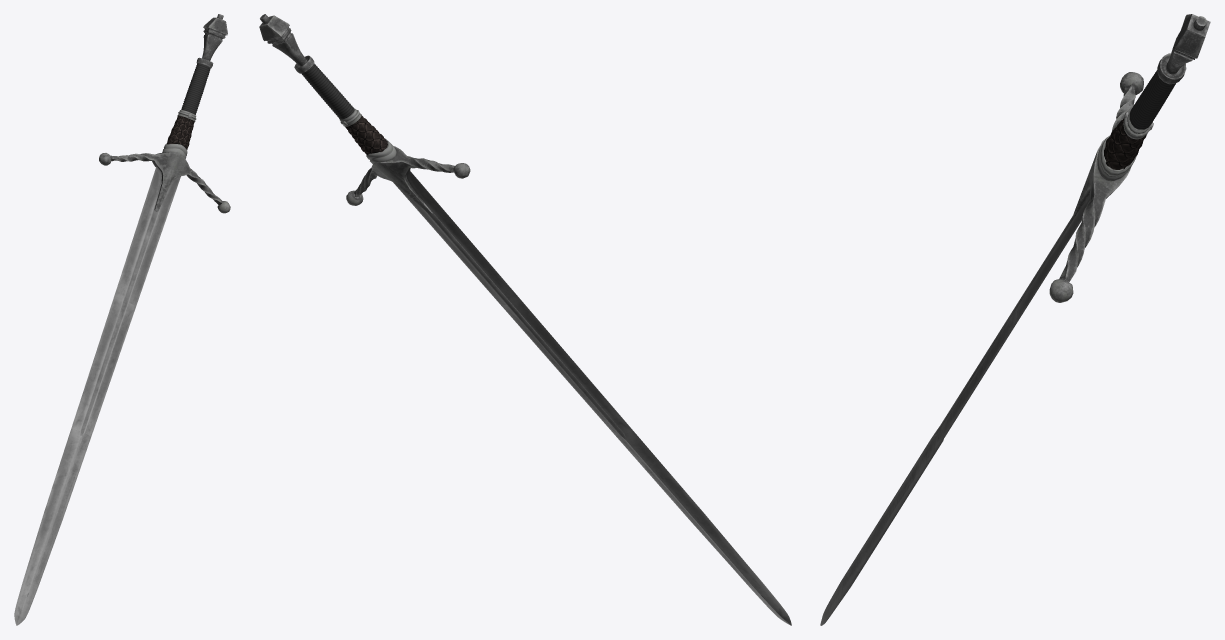
Rendered from bastard_sword__lowpoly.glb.
3 renders of one model, left to right at view 1: azimuth 30°, elevation 25°; view 2: azimuth 150°, elevation 25°; view 3: azimuth 270°, elevation 25°, orthographic. The views are drawn at different scales.
Bounding box in the file's own units: 36.8 × 53.37 × 21.21.
Materials: 1 (1 with a texture image).
